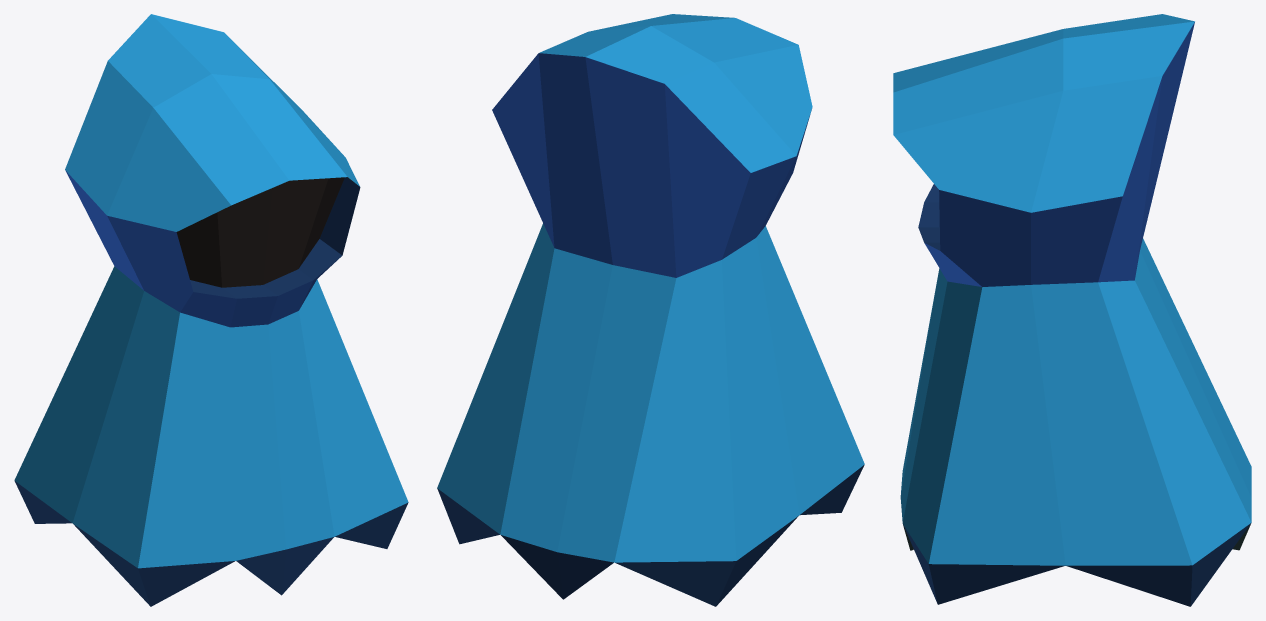
File: Spectre.fbx
3 views of the same model, side by side, from view 1: azimuth 30°, elevation 25°; view 2: azimuth 150°, elevation 25°; view 3: azimuth 270°, elevation 25° (orthographic). The views are drawn at different scales.
Parts seen in each view (by area): view 1: Cube; view 2: Cube; view 3: Cube.
Part boxes in pixels (left/top/right/bottom): Cube: left=14, top=14, right=408, bottom=606; Cube: left=437, top=14, right=864, bottom=606; Cube: left=893, top=14, right=1251, bottom=606.
Size of the model in its own units: 199 by 335 by 206.
